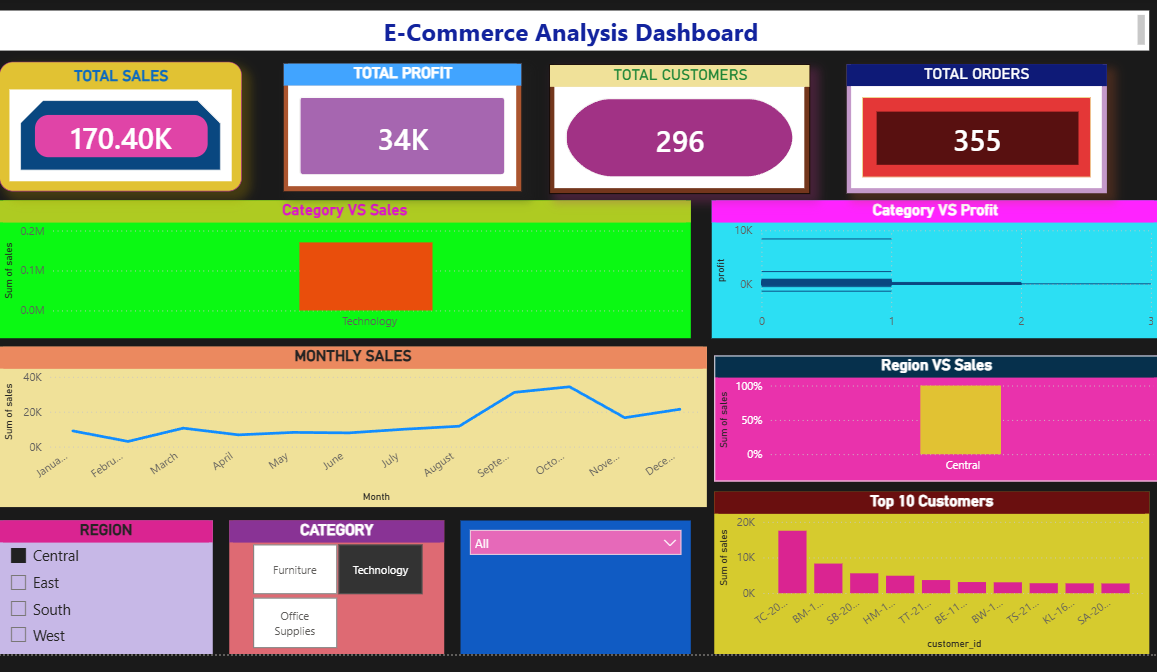

This screenshot's page, from the dashboard's own definition file:
{"tool":"powerbi","page":{"name":"Page 1","canvas":[1280,720],"ordinal":0},"visuals":[{"type":"columnChart","title":"Category VS Sales","fields":{"Y":["Sum(ecommerece_db orders.sales)"],"Category":["ecommerece_db orders.category"]},"box":[6.9,222.3,758.8,150.9],"z":0},{"type":"barChart","title":"Category VS Profit","fields":{"Category":["ecommerece_db orders.profit"],"Y":["CountNonNull(ecommerece_db orders.category)"]},"box":[789,222.3,491.3,150.9],"z":1000},{"type":"lineChart","title":"MONTHLY SALES","fields":{"Category":["ecommerece_db orders.order_date_new.Variation.Date Hierarchy.Month"],"Y":["Sum(ecommerece_db orders.sales)"]},"box":[6.9,382.8,776.7,175.6],"z":2000},{"type":"hundredPercentStackedColumnChart","title":"Region VS Sales","fields":{"Category":["ecommerece_db orders.region"],"Y":["Sum(ecommerece_db orders.sales)"]},"box":[791.8,392.5,488.5,138.6],"z":3000},{"type":"clusteredColumnChart","title":"Top 10 Customers","fields":{"Category":["ecommerece_db orders.customer_id"],"Y":["Sum(ecommerece_db orders.sales)"]},"box":[791.8,542,477.5,178.4],"z":4000},{"type":"cardVisual","title":"TOTAL SALES","fields":{"Data":["ecommerece_db orders.total_sales"]},"box":[6.9,70,266.2,142.7],"z":5000},{"type":"cardVisual","title":"TOTAL PROFIT","fields":{"Data":["Sum(ecommerece_db orders.profit)"]},"box":[318.4,71.4,262.1,141.3],"z":6000},{"type":"cardVisual","title":"TOTAL CUSTOMERS","fields":{"Data":["ecommerece_db orders.Total Customers"]},"box":[610.6,72.7,286.8,142.7],"z":7000},{"type":"cardVisual","title":"TOTAL ORDERS","fields":{"Data":["ecommerece_db orders.Total Orders"]},"box":[937.2,72.7,285.4,141.3],"z":8000},{"type":"slicer","title":"REGION","fields":{"Values":["ecommerece_db orders.region"]},"box":[6.9,573.6,234.6,146.8],"z":9000},{"type":"slicer","title":"CATEGORY","fields":{"Values":["ecommerece_db orders.category"]},"box":[259.3,573.6,236,146.8],"z":10000},{"type":"slicer","fields":{"Values":["ecommerece_db orders.segment"]},"box":[513.2,573.6,252.5,146.8],"z":11000},{"type":"textbox","box":[6.9,13.7,1262.4,43.9],"z":12000}]}

Visuals, with their boxes in screenshot pixels (x1, y1, x2, y2):
"Category VS Sales" columnChart: [12,195,689,330]
"Category VS Profit" barChart: [709,195,1147,330]
"MONTHLY SALES" lineChart: [12,338,705,495]
"Region VS Sales" hundredPercentStackedColumnChart: [712,347,1147,470]
"Top 10 Customers" clusteredColumnChart: [712,480,1137,639]
"TOTAL SALES" cardVisual: [12,59,249,187]
"TOTAL PROFIT" cardVisual: [290,61,523,187]
"TOTAL CUSTOMERS" cardVisual: [550,62,806,189]
"TOTAL ORDERS" cardVisual: [841,62,1096,188]
"REGION" slicer: [12,508,221,639]
"CATEGORY" slicer: [237,508,448,639]
slicer - ecommerece_db orders.segment: [464,508,689,639]
textbox: [12,9,1137,48]
